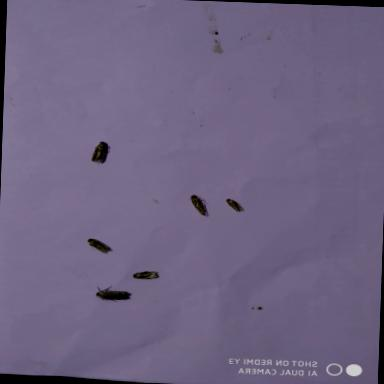pbw: (93, 283, 134, 304), (86, 235, 115, 256), (186, 192, 209, 218), (89, 140, 112, 166), (130, 268, 161, 282), (224, 196, 246, 214)
